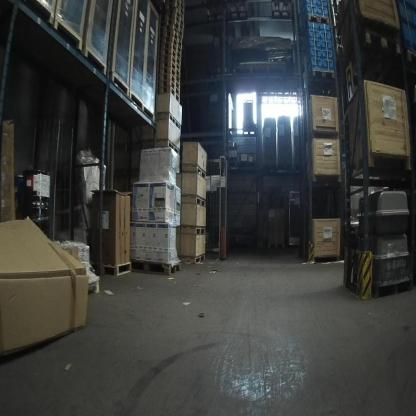pallet: (349, 153, 411, 178), (161, 14, 223, 39), (361, 28, 401, 55), (371, 276, 412, 298), (130, 258, 181, 275), (301, 15, 330, 40), (161, 30, 183, 51), (158, 66, 181, 86), (159, 42, 182, 62), (159, 47, 181, 67), (156, 86, 180, 104), (162, 14, 183, 34), (156, 80, 180, 97), (164, 9, 184, 29), (161, 25, 182, 44), (158, 74, 180, 92), (158, 61, 180, 79), (159, 55, 181, 73), (160, 37, 182, 55), (402, 47, 416, 65), (312, 69, 335, 79), (169, 112, 181, 131), (167, 140, 180, 155), (172, 0, 184, 16), (172, 3, 184, 19), (271, 9, 291, 18), (229, 11, 247, 20), (268, 242, 285, 250), (197, 167, 206, 179), (195, 254, 205, 264), (196, 197, 206, 207), (196, 227, 205, 234), (243, 130, 255, 135), (177, 0, 184, 8)
small_load_carrier: (311, 58, 323, 70), (310, 48, 322, 59), (322, 59, 333, 70), (321, 41, 332, 52), (321, 50, 333, 60), (310, 39, 321, 49), (320, 32, 331, 42), (319, 23, 330, 33), (308, 21, 319, 31), (306, 3, 317, 13), (317, 5, 328, 15), (309, 30, 320, 39), (317, 0, 327, 7), (306, 0, 317, 5)
